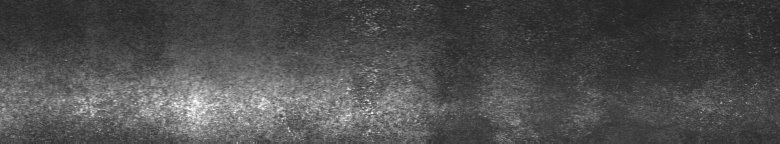kb: (64, 5, 598, 136)
